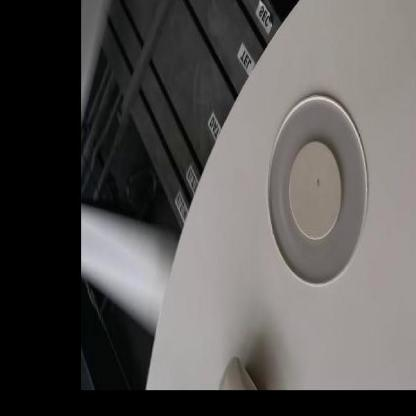light_off: (258, 65, 382, 300)
